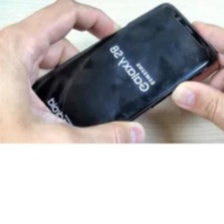phone: (4, 0, 221, 147)
